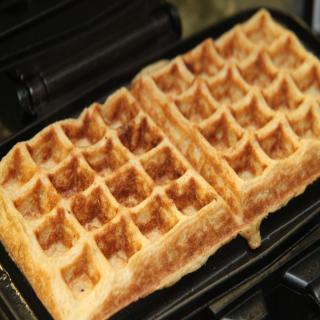Waffle: (0, 8, 320, 320)
